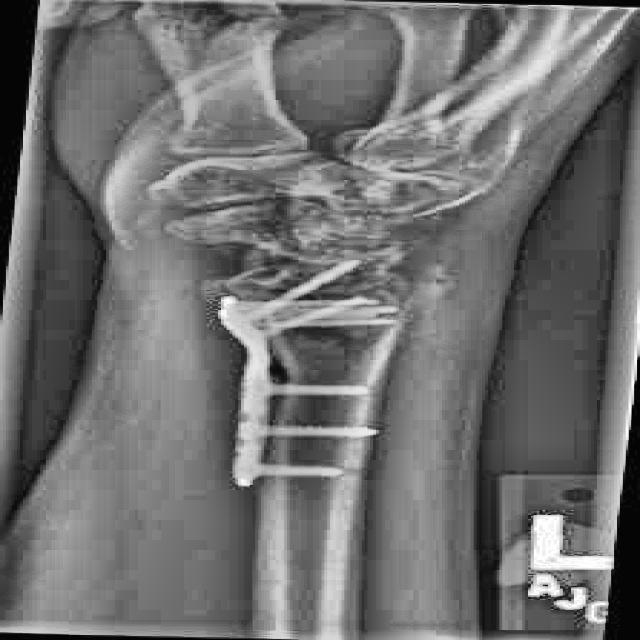wrist positive: (233, 297, 433, 365)
